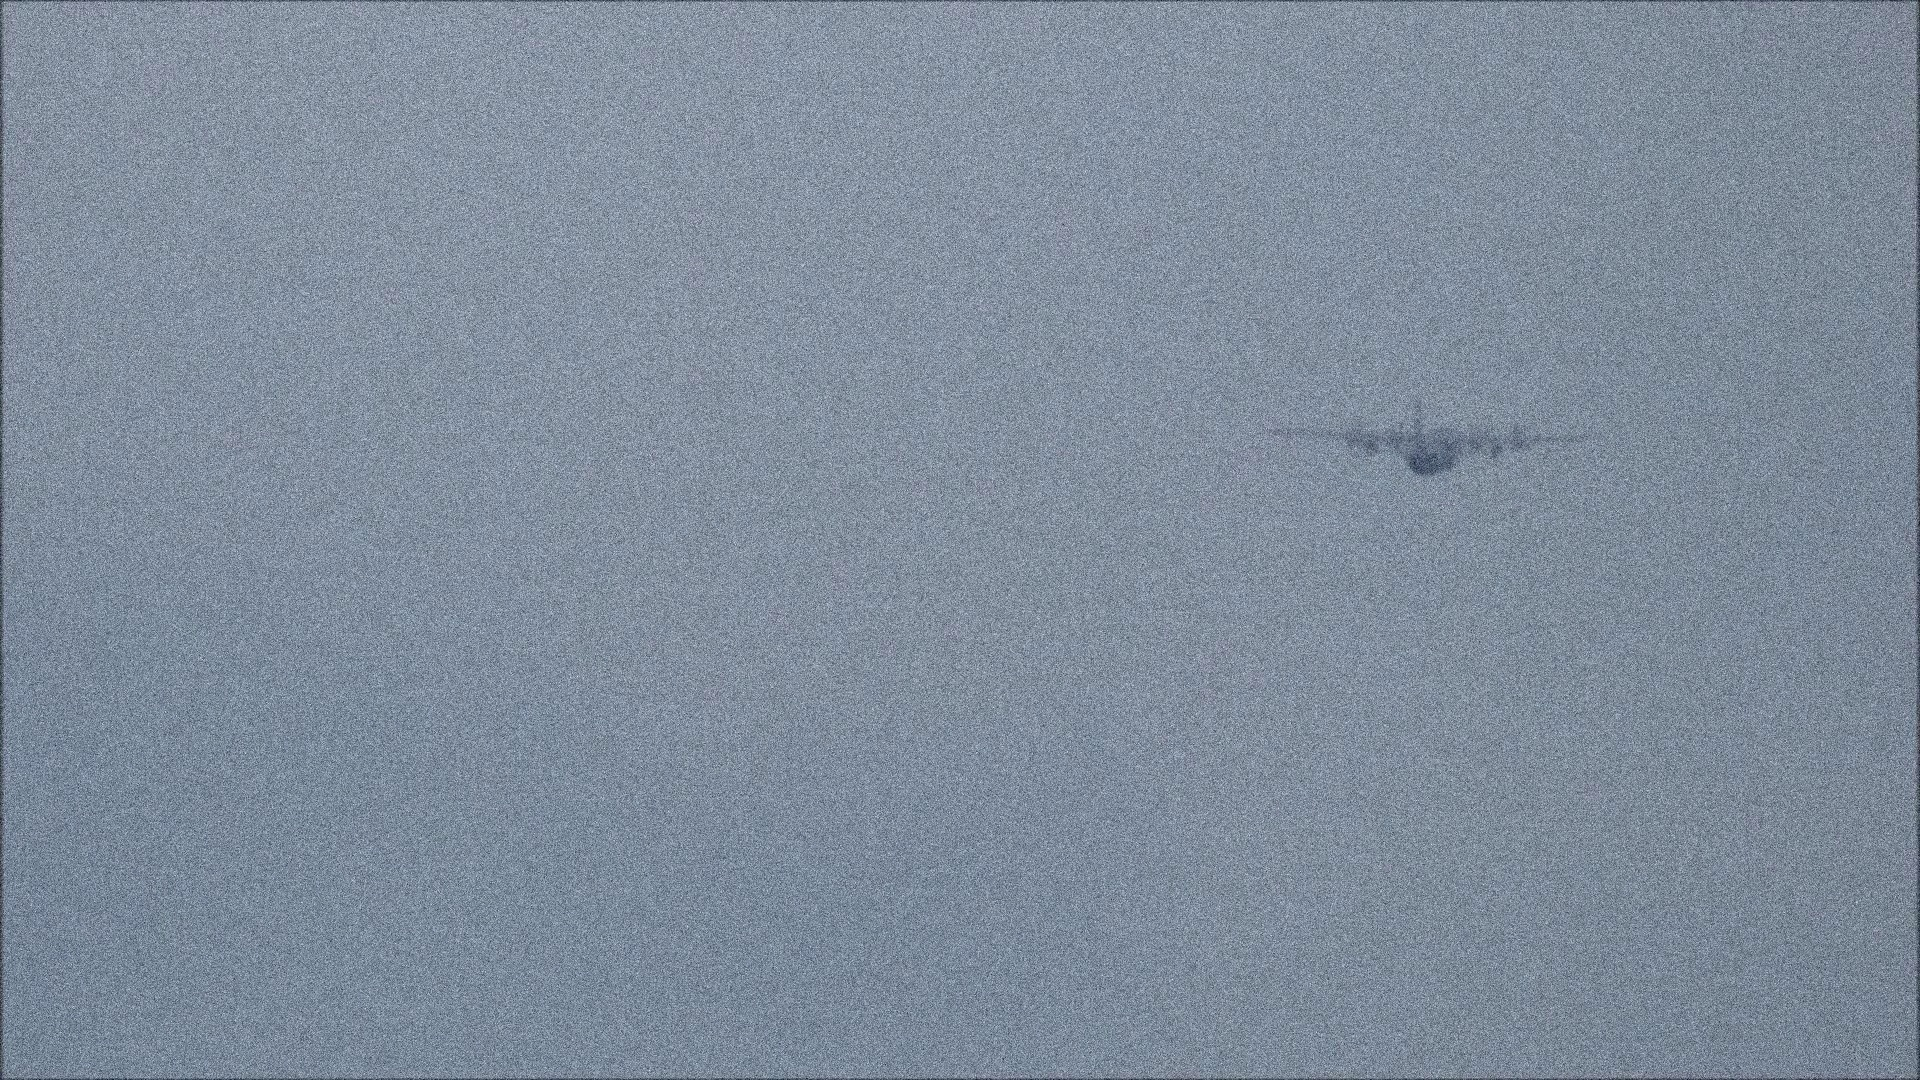Airplane: (1324, 396, 1575, 477)
